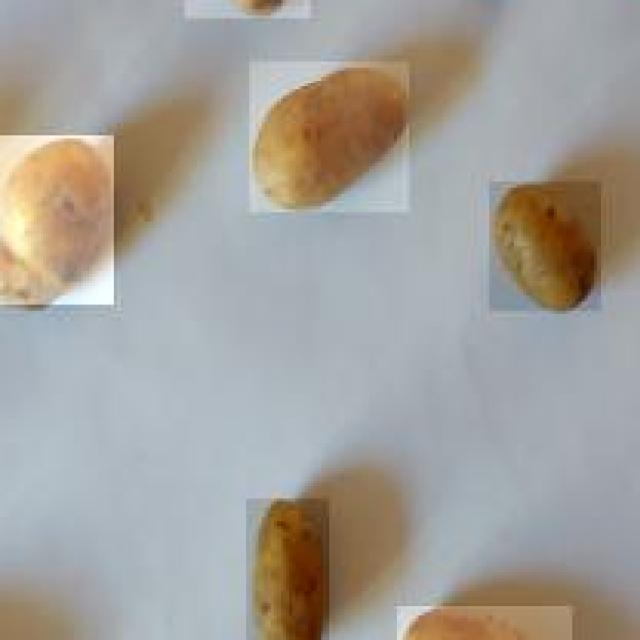onion: (0, 132, 117, 308)
potato: (250, 61, 412, 216), (488, 183, 602, 316), (243, 495, 329, 640), (397, 606, 575, 640)
